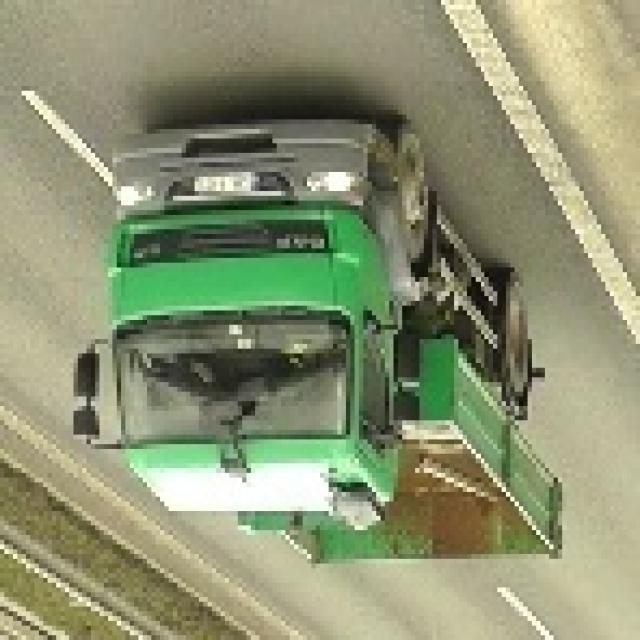truck: (74, 114, 562, 578)
